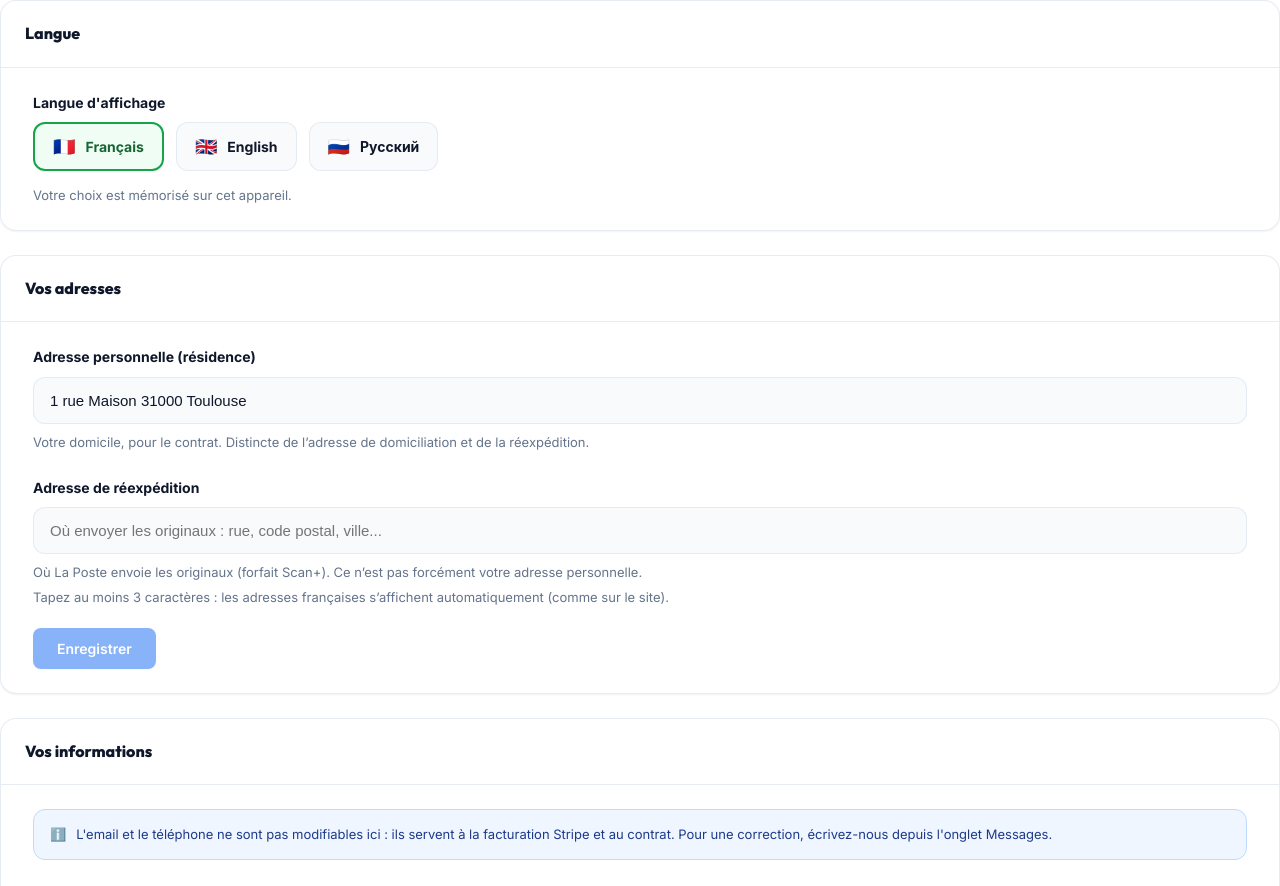
Test: Paramètres — adresses distinctes › enregistre les deux adresses sans les confondre
Replace the text in the field with placeholder "Numéro, rue, code postal, ville..." with "2 rue Perso 31000 Toulouse" at [640, 400], box [33, 377, 1247, 424]
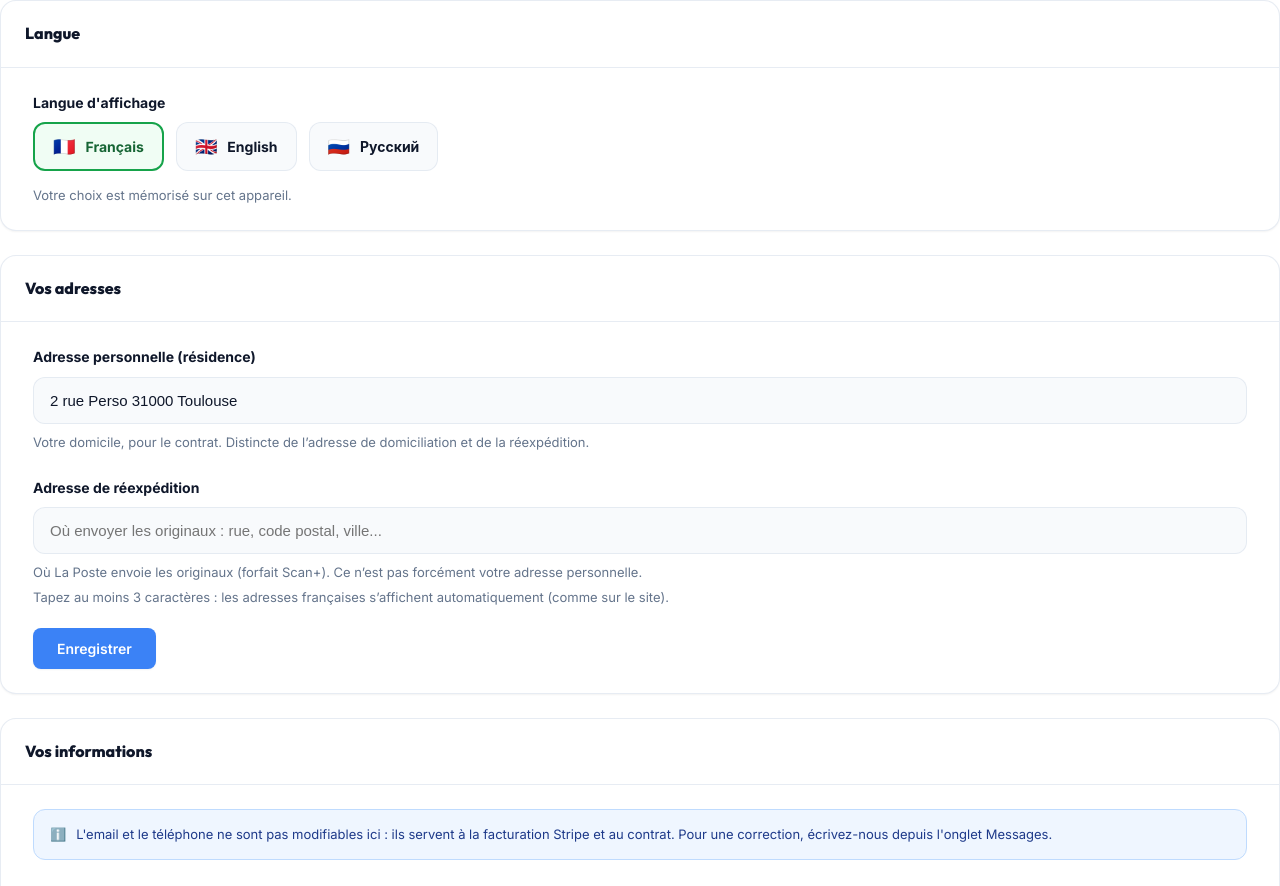
Type "8 rue Reexp 75001 Paris" into the field with placeholder "Où envoyer les originaux : rue, code postal, ville..." at [640, 530], box [33, 507, 1247, 554]
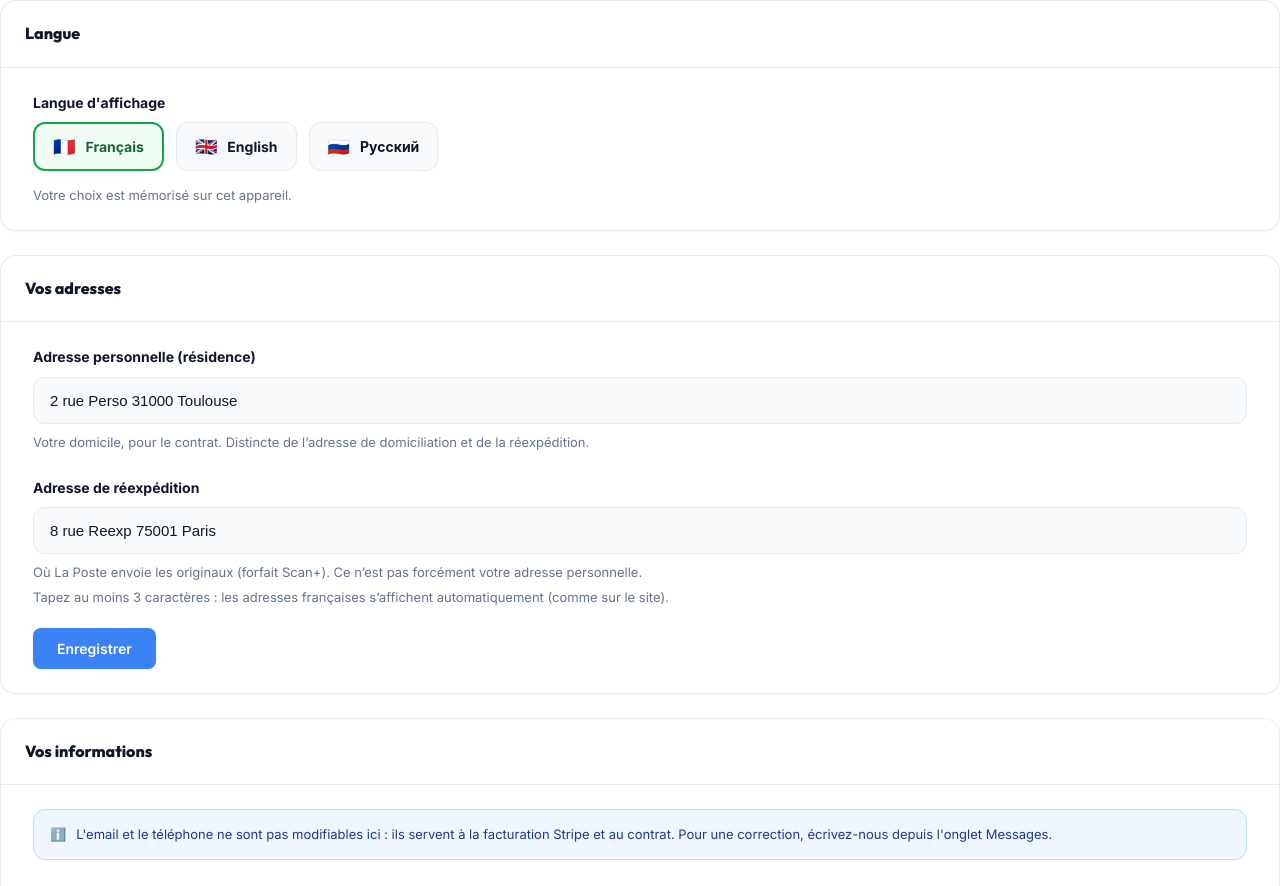
Click the button "Enregistrer" at [94, 648], box [33, 628, 156, 668]
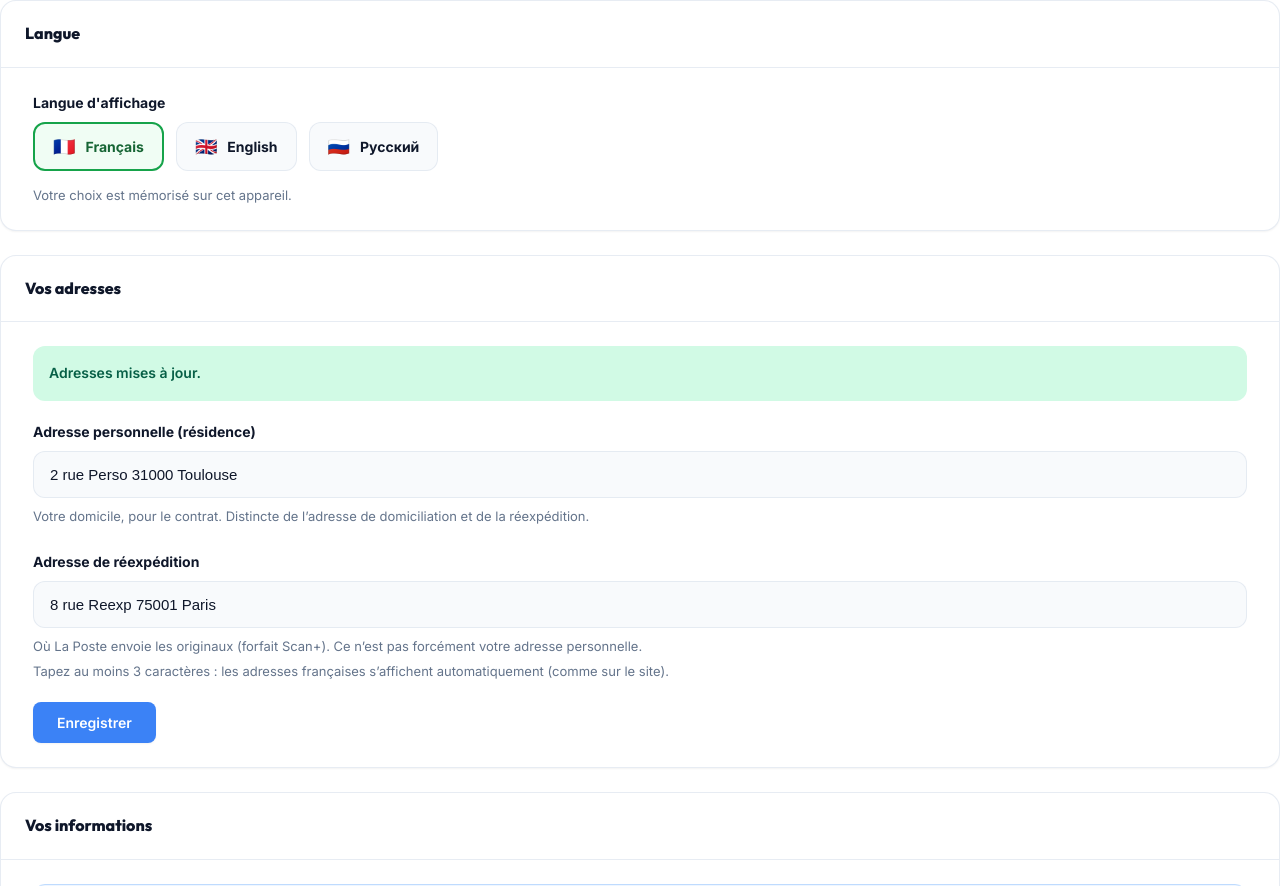
Check: the text "Adresses mises à jour." is shown, box [33, 346, 1247, 401]
